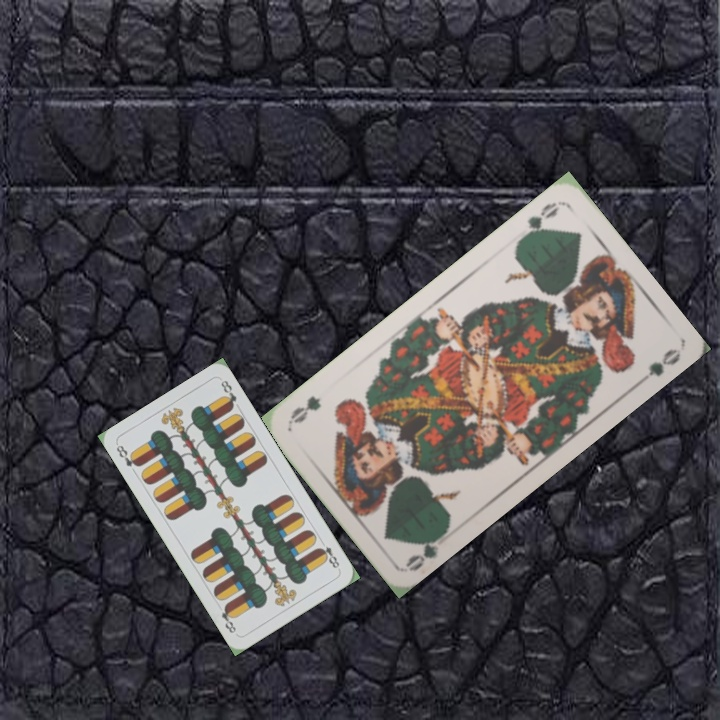E8: (314, 535, 342, 572), (112, 441, 143, 470)
GO: (403, 524, 451, 574), (515, 197, 562, 243)
